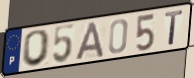0: (107, 18, 130, 55)
5: (51, 22, 77, 65), (134, 11, 158, 53)
A: (74, 20, 106, 61)
O: (21, 28, 52, 68)
T: (163, 8, 185, 47)
